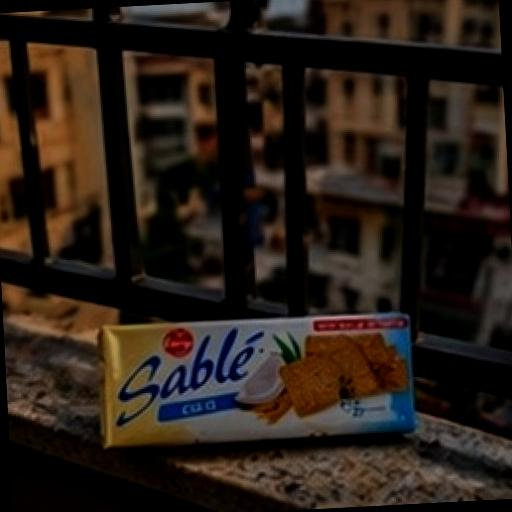sable: (58, 248, 454, 512)
